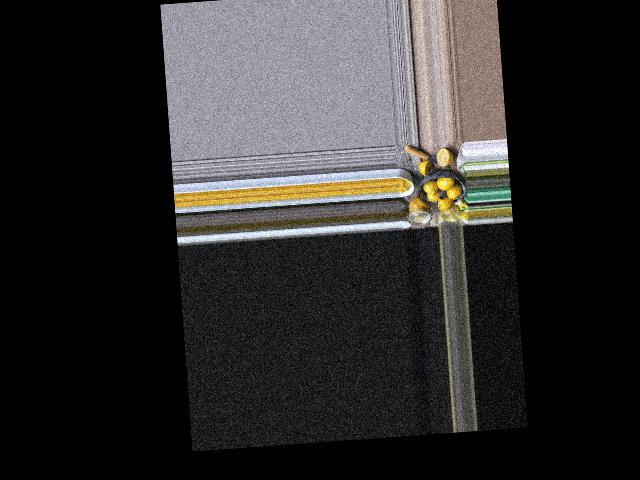lemon: (422, 179, 437, 195)
